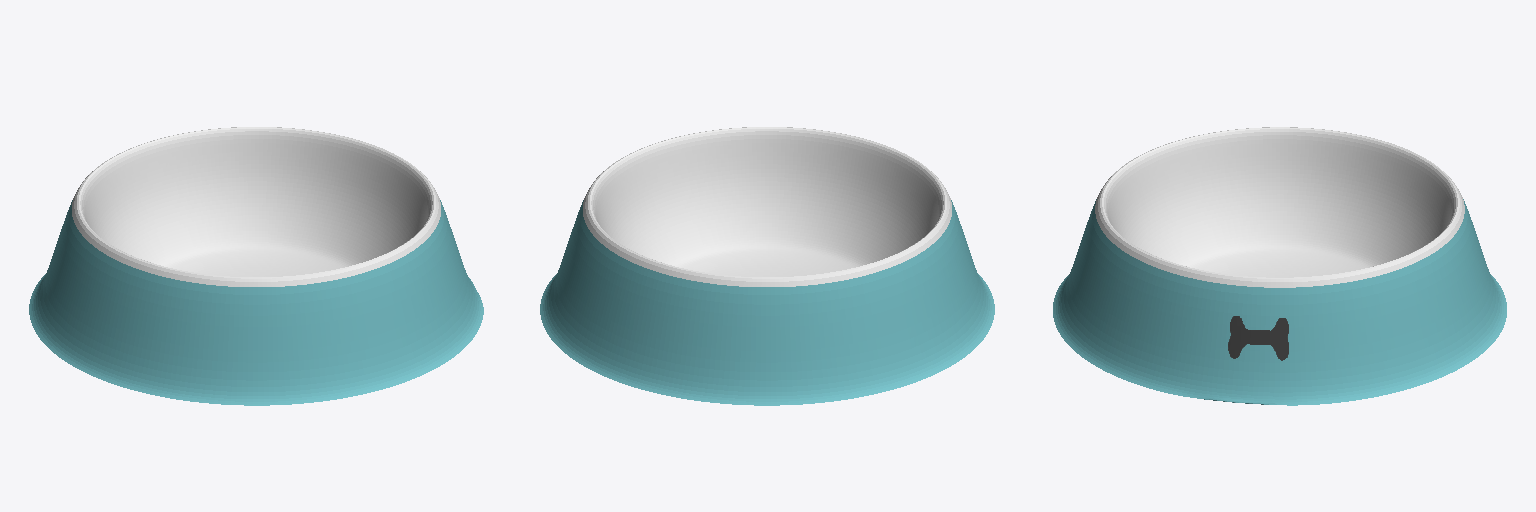
3 views of the same model, side by side, from view 1: azimuth 30°, elevation 25°; view 2: azimuth 150°, elevation 25°; view 3: azimuth 270°, elevation 25° (orthographic).
Parts seen in each view (by area): view 1: Sphere; view 2: Sphere; view 3: Sphere.
Boxes of the visible parts, x1,y1,x2,y2 form: Sphere: [29, 127, 483, 405]; Sphere: [540, 127, 994, 405]; Sphere: [1053, 127, 1506, 405].
Bounding box in the file's own units: 7.62 × 1.99 × 7.64.
1 materials, 1 textured.